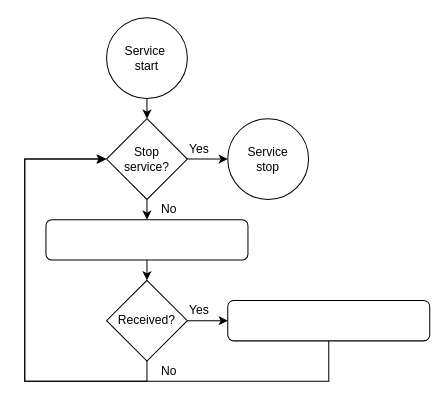
Some shapes in this 447 by 407 pixel diagram are drawn without their labels. Here are the shapes that lost their labels. From the top down, the box of each, then its label:
(45, 219, 248, 260): Wait for and receive events
(227, 299, 430, 341): Notify service pool
